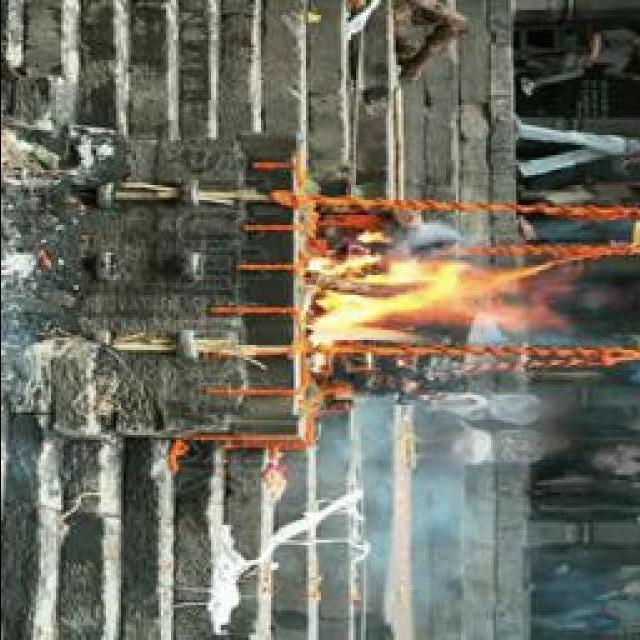Fire: (292, 246, 572, 363)
